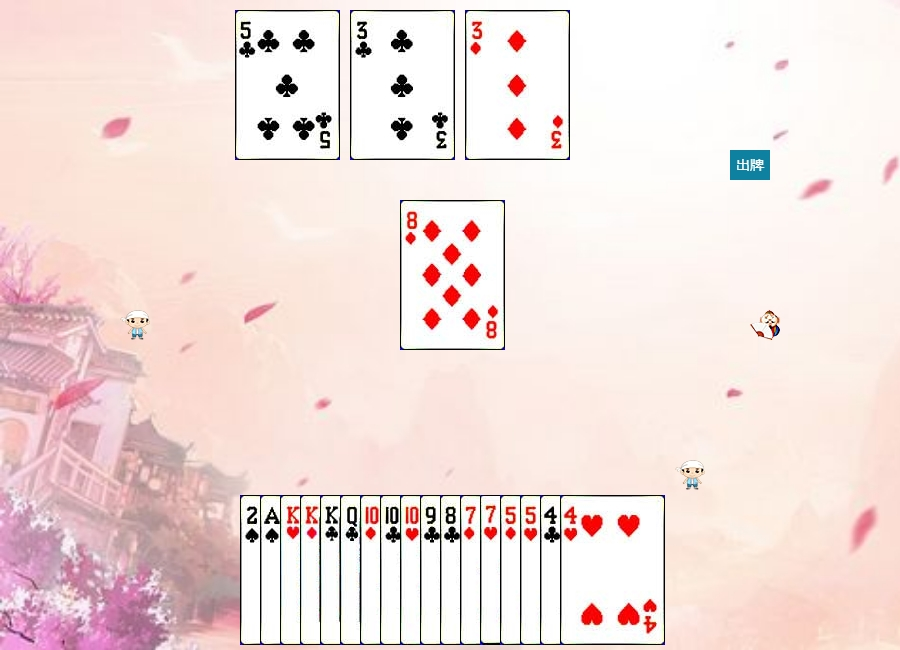10~1: (360, 495, 465, 645)
10~2: (380, 495, 485, 645)
10~3: (400, 495, 505, 645)
12~2: (340, 495, 445, 645)
13~1: (300, 495, 405, 645)
13~2: (320, 495, 425, 645)
13~3: (280, 495, 385, 645)
14~4: (260, 495, 365, 645)
15~4: (240, 495, 345, 645)
3~1: (465, 10, 570, 160)
3~2: (350, 10, 455, 160)
4~2: (540, 495, 645, 645)
4~3: (560, 495, 665, 645)
5~1: (500, 495, 605, 645)
5~2: (235, 10, 340, 160)
5~3: (520, 495, 625, 645)
7~1: (460, 495, 565, 645)
7~3: (480, 495, 585, 645)
8~1: (400, 200, 505, 350)
8~2: (440, 495, 545, 645)
9~2: (420, 495, 525, 645)
